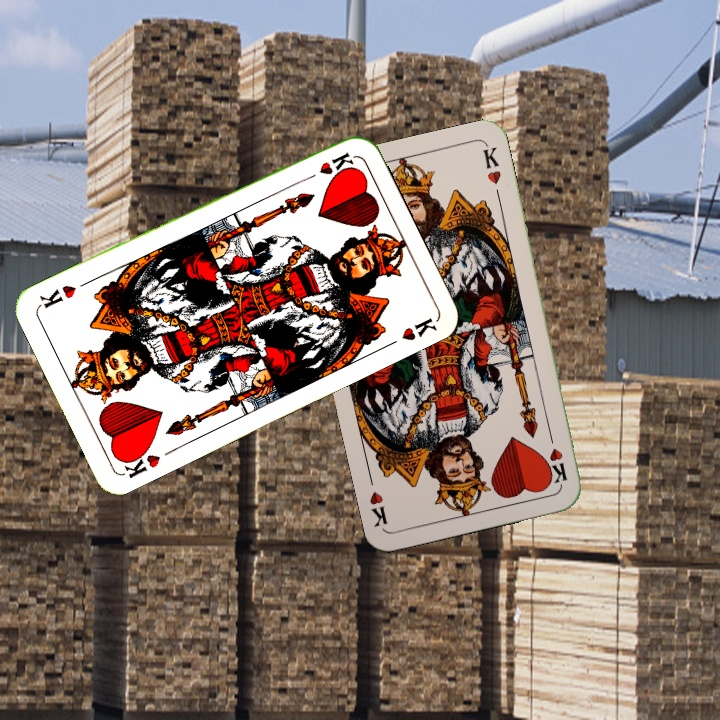HK: (299, 148, 357, 184), (116, 443, 163, 481), (544, 427, 569, 486)
